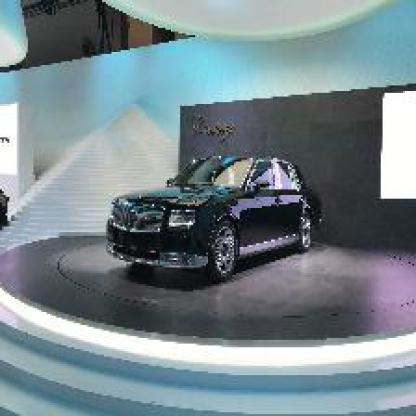not_emergency: (95, 149, 354, 308)
